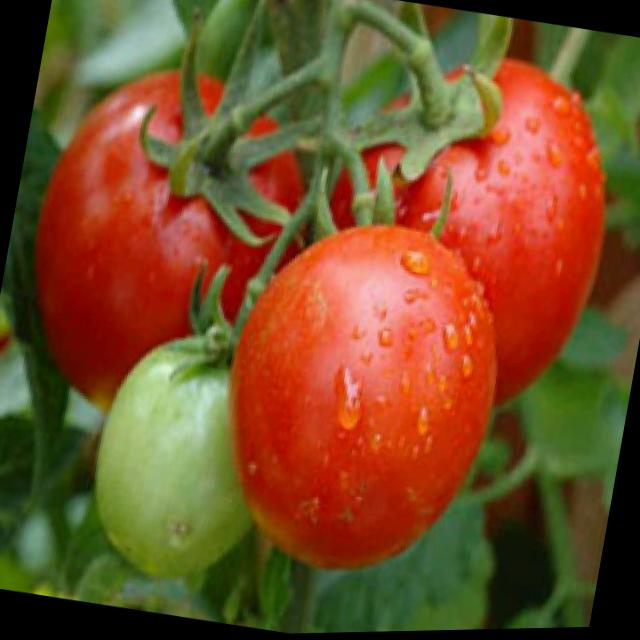tomato: (294, 31, 630, 428), (9, 47, 332, 445), (203, 204, 519, 592)
